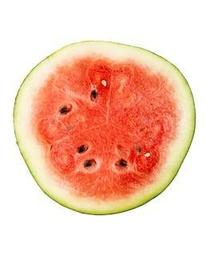watermelon: (14, 39, 196, 216)
